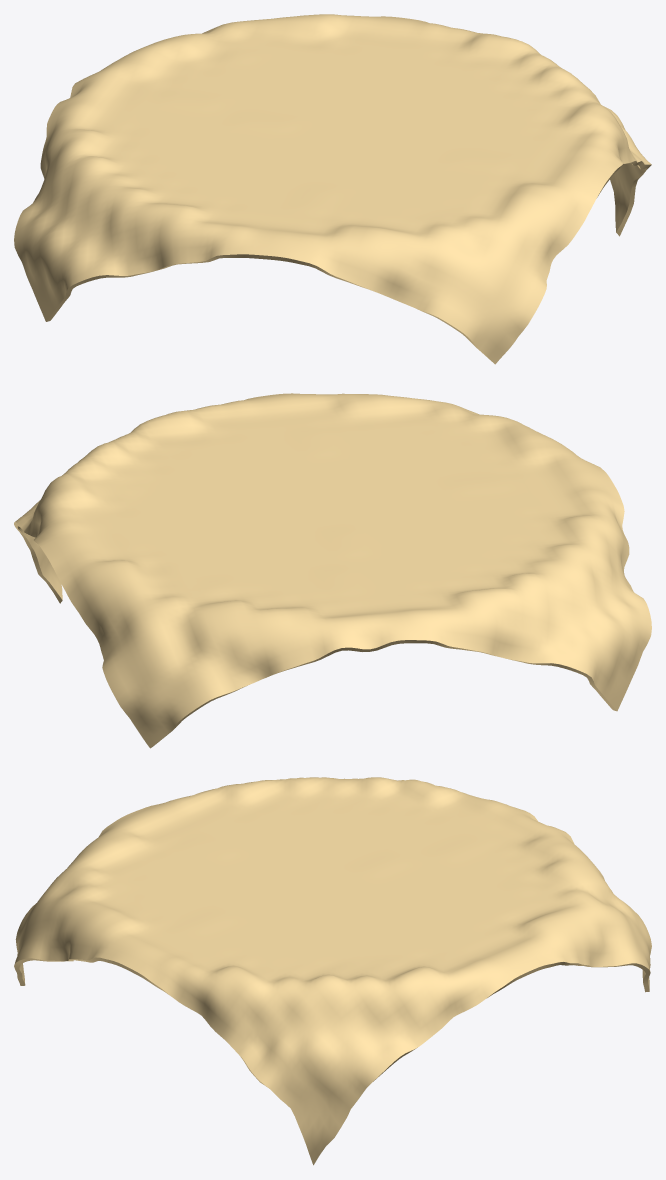
File: Cheese2.fbx
3 views of the same model, one above another, from view 1: azimuth 30°, elevation 25°; view 2: azimuth 150°, elevation 25°; view 3: azimuth 270°, elevation 25° (orthographic). The views are drawn at different scales.
Parts seen in each view (by area): view 1: cheese; view 2: cheese; view 3: cheese.
Boxes of the visible parts, bbox=[...] form: cheese: bbox=[14, 14, 651, 364]; cheese: bbox=[14, 393, 651, 748]; cheese: bbox=[14, 777, 651, 1165].
Size of the model in its own units: 17.17 by 4.94 by 17.48.
